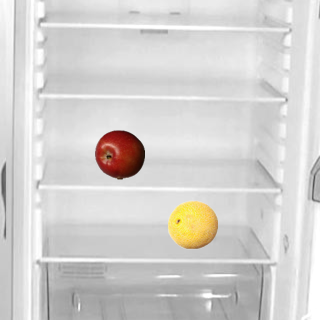Apple Braeburn: (94, 129, 144, 179)
Cantaloupe 1: (167, 199, 217, 249)
